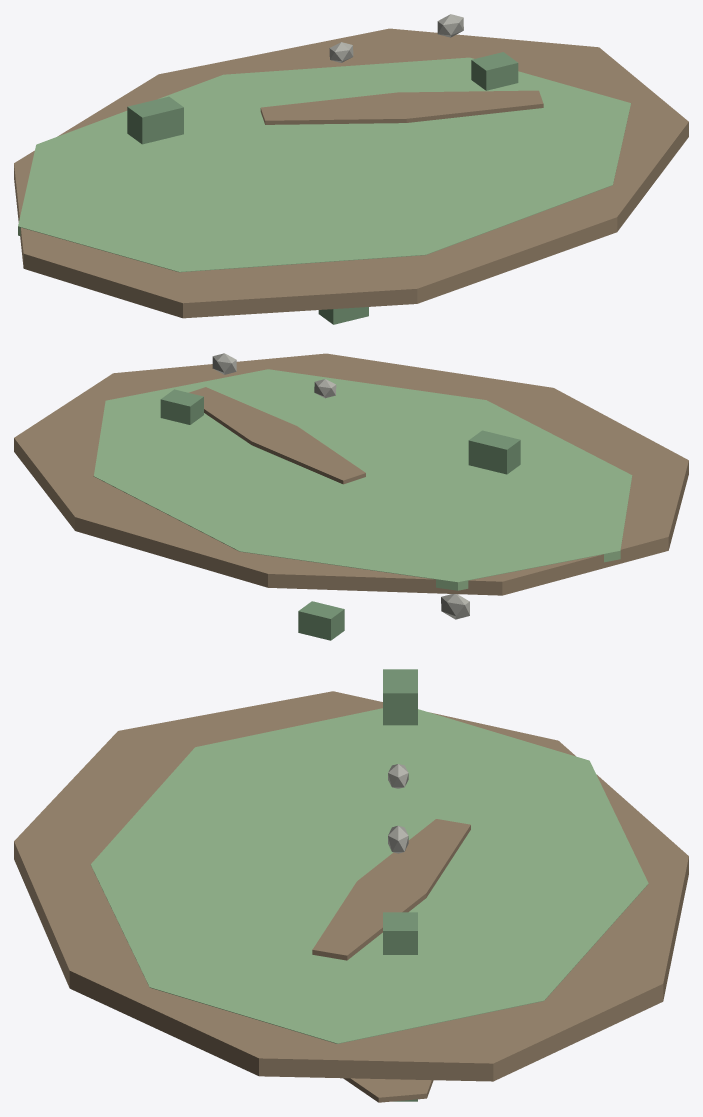
Rendered from ground_patch.glb.
3 renders of one model, top to bottom at view 1: azimuth 30°, elevation 25°; view 2: azimuth 150°, elevation 25°; view 3: azimuth 270°, elevation 25°, orthographic. The views are drawn at different scales.
Parts seen in each view (by area): view 1: grass_mass, soil_bank, worn_path, grass_tuft_0, grass_tuft_2, grass_tuft_1, embedded_stone_1; view 2: grass_mass, soil_bank, worn_path, grass_tuft_0, grass_tuft_1, grass_tuft_2, embedded_stone_0; view 3: grass_mass, soil_bank, worn_path, grass_tuft_0, bare_dirt, grass_tuft_2.
Part boxes in pixels (x1=…): grass_mass: x1=18, y1=57, x2=630, y2=272; soil_bank: x1=14, y1=28, x2=688, y2=318; worn_path: x1=260, y1=90, x2=543, y2=124; grass_tuft_0: x1=127, y1=96, x2=183, y2=144; grass_tuft_2: x1=471, y1=52, x2=518, y2=90; grass_tuft_1: x1=318, y1=307, x2=368, y2=324; embedded_stone_1: x1=437, y1=14, x2=463, y2=37; grass_mass: x1=93, y1=369, x2=632, y2=590; soil_bank: x1=14, y1=353, x2=688, y2=595; worn_path: x1=189, y1=387, x2=365, y2=484; grass_tuft_0: x1=468, y1=430, x2=520, y2=474; grass_tuft_1: x1=298, y1=601, x2=344, y2=640; grass_tuft_2: x1=160, y1=389, x2=203, y2=424; embedded_stone_0: x1=441, y1=594, x2=469, y2=619; grass_mass: x1=90, y1=708, x2=648, y2=1043; soil_bank: x1=14, y1=691, x2=688, y2=1081; worn_path: x1=312, y1=819, x2=470, y2=960; grass_tuft_0: x1=383, y1=669, x2=417, y2=725; bare_dirt: x1=343, y1=1078, x2=433, y2=1102; grass_tuft_2: x1=383, y1=912, x2=417, y2=954.
Bounding box in the file's own units: 4 × 1.64 × 3.07.
